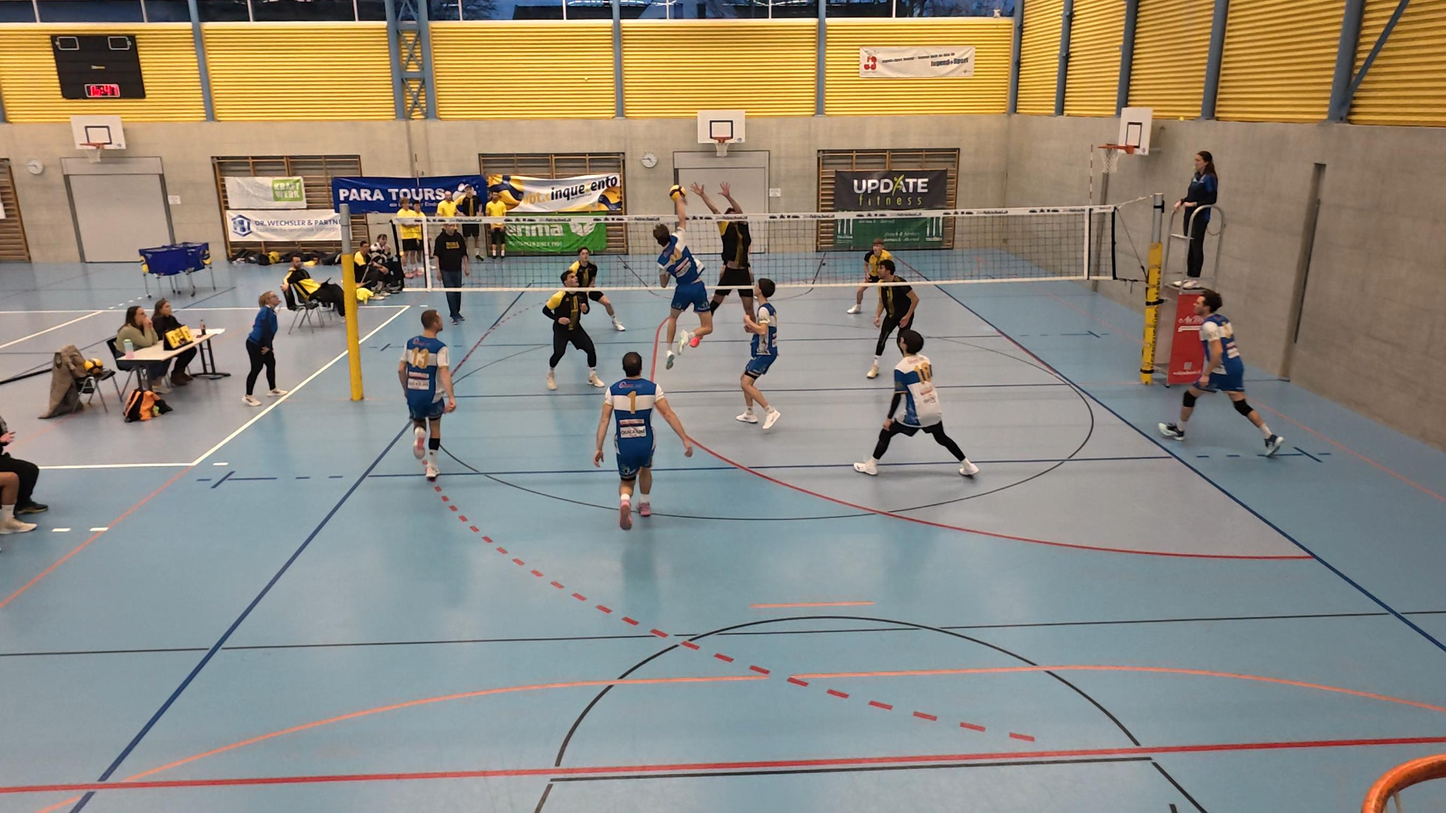Attack: (649, 180, 715, 369)
Block: (699, 182, 760, 332)
Player: (1160, 290, 1282, 455), (853, 326, 981, 478), (593, 350, 691, 528), (399, 314, 453, 478), (542, 273, 603, 390), (864, 259, 919, 379), (737, 284, 782, 428), (562, 249, 622, 332), (852, 241, 892, 317)
ball: (666, 182, 689, 203)
